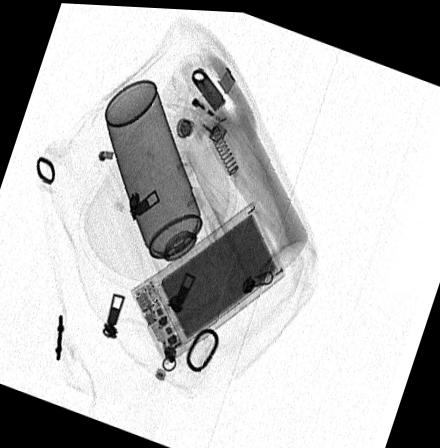Lighter: (159, 75, 231, 143)
Powerbank: (129, 197, 286, 364)
Sprayer: (104, 78, 212, 279)
